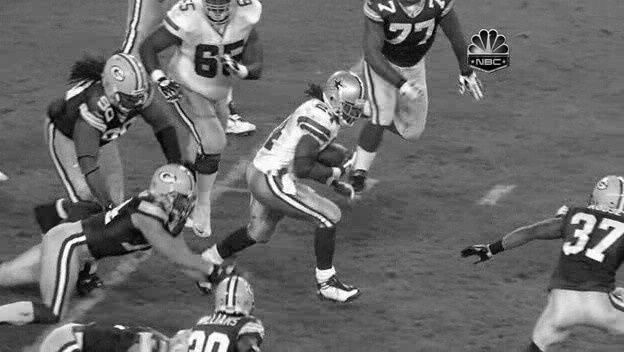person: (327, 74, 363, 126), (326, 74, 362, 126), (328, 74, 364, 126), (327, 73, 363, 125), (327, 75, 363, 127)
target_negative: (123, 178, 595, 295), (407, 31, 594, 293), (453, 147, 590, 277), (221, 7, 264, 276), (422, 203, 533, 304)
